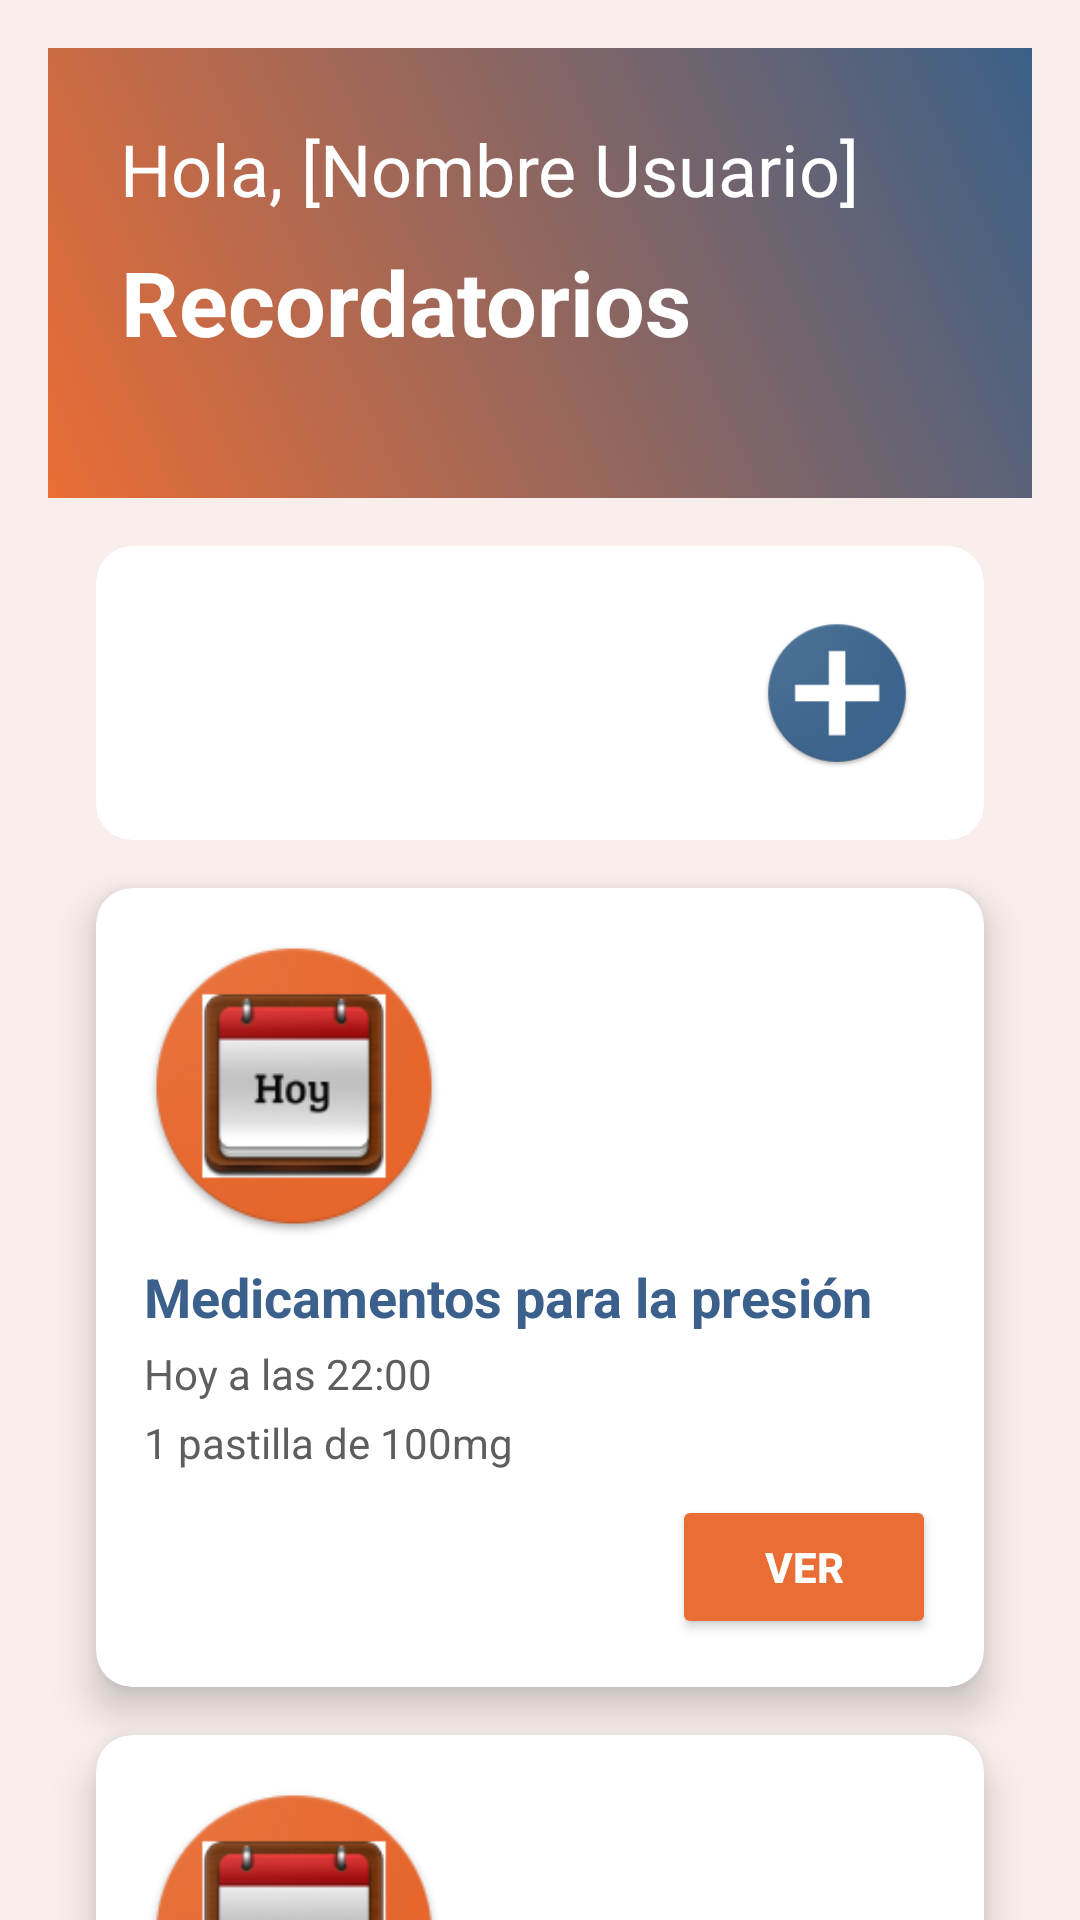

Named icons in this screenshot (1080px x 1920px) and their bounding boxes, (x1, y1, x2, y2):
Agregar recordatorio: (767, 624, 907, 765)
